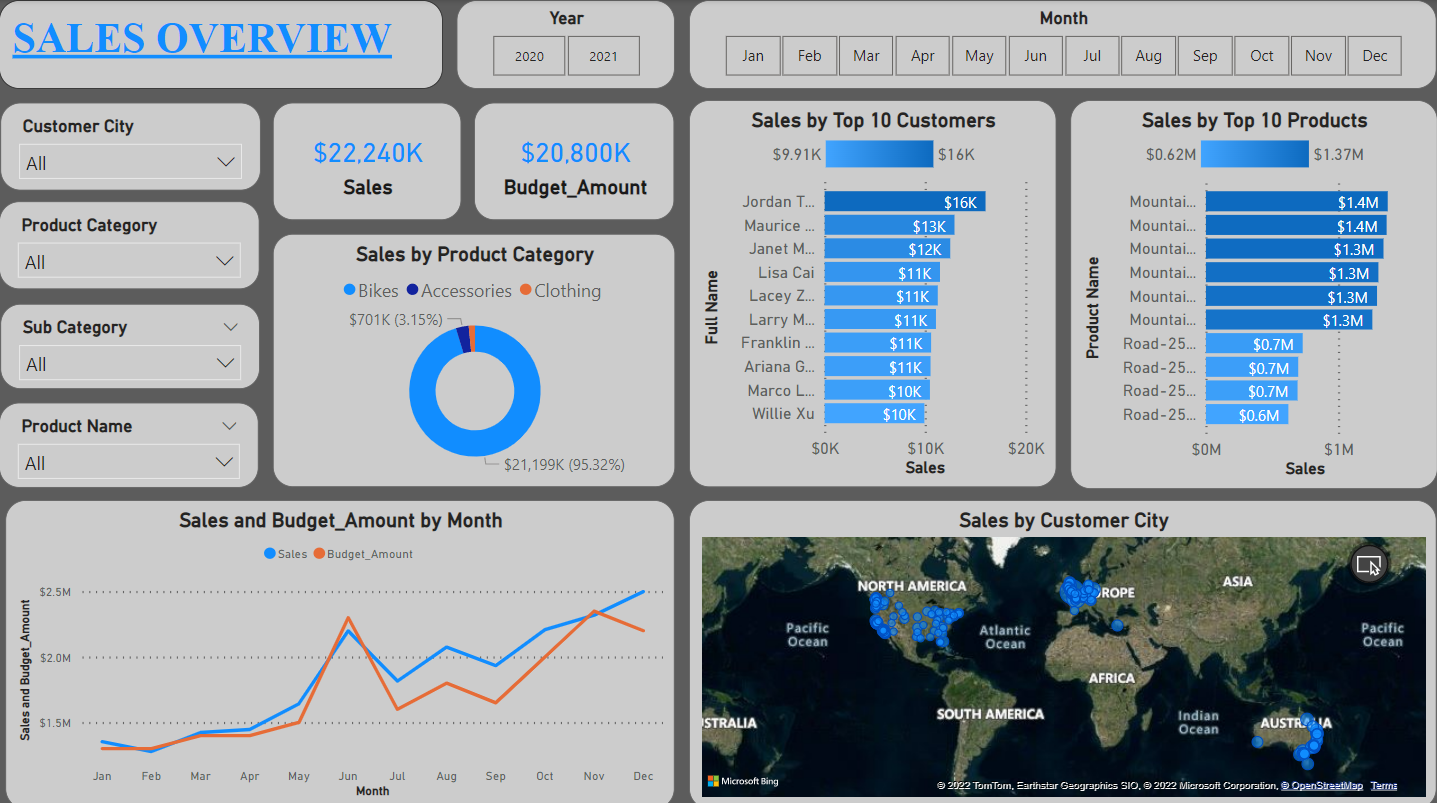

This screenshot's page, from the dashboard's own definition file:
{"tool":"powerbi","page":{"name":"Sales Overview","canvas":[1280,720],"ordinal":0},"visuals":[{"type":"textbox","box":[0,0,395.6,79.6],"z":0},{"type":"slicer","fields":{"Values":["DIM_Product.Product Category"]},"box":[0,179.7,232,78.4],"z":1000},{"type":"slicer","fields":{"Values":["DIM_Product.Sub Category"]},"box":[1.2,270.2,231.6,76],"z":2000},{"type":"slicer","fields":{"Values":["DIM_Product.Product Name"]},"box":[0,358.2,231.6,76],"z":3000},{"type":"slicer","fields":{"Values":["DIM_Customers.Customer City"]},"box":[1.2,91.7,232,78],"z":4000},{"type":"slicer","title":"Year","fields":{"Values":["DIM_Calendar.Year"]},"box":[407.6,0,194.2,79.6],"z":5000},{"type":"slicer","title":"Month","fields":{"Values":["DIM_Calendar.MonthShort"]},"box":[613.9,0,665.7,79.6],"z":6000},{"type":"donutChart","fields":{"Category":["DIM_Product.Product Category"],"Y":["Analysis Metrics.Sales"]},"box":[243.6,208.6,358.2,225.5],"z":7000},{"type":"lineChart","title":"Sales and Budget_Amount by Month","fields":{"Y":["Analysis Metrics.Sales","Analysis Metrics.Budget_Amount"],"Category":["DIM_Calendar.MonthShort"]},"box":[6,445,595.8,275],"z":8000},{"type":"barChart","title":"Sales by Top 10 Customers","fields":{"Category":["DIM_Customers.Full Name"],"Y":["Analysis Metrics.Sales"]},"box":[613.9,89.2,326.8,344.9],"z":9000},{"type":"barChart","title":"Sales by Top 10 Products","fields":{"Category":["DIM_Product.Product Name"],"Y":["Analysis Metrics.Sales"]},"box":[953.1,89.2,326.8,346.1],"z":10000},{"type":"map","fields":{"Category":["DIM_Customers.Customer City"],"Size":["Analysis Metrics.Sales"]},"box":[613.9,445,665.7,275],"z":11000},{"type":"card","fields":{"Values":["Analysis Metrics.Budget_Amount"]},"box":[423.3,91.7,178.5,104.9],"z":12000},{"type":"card","fields":{"Values":["Analysis Metrics.Sales"]},"box":[243.6,91.7,167.6,104.9],"z":13000}]}

Visuals, with their boxes in screenshot pixels (x1, y1, x2, y2), scaled from the page's 1280x720 canvas onto the 1437x803 screenshot:
textbox: <region>0, 0, 444, 89</region>
slicer - DIM_Product.Product Category: <region>0, 200, 260, 288</region>
slicer - DIM_Product.Sub Category: <region>1, 301, 261, 386</region>
slicer - DIM_Product.Product Name: <region>0, 399, 260, 484</region>
slicer - DIM_Customers.Customer City: <region>1, 102, 262, 189</region>
"Year" slicer: <region>458, 0, 676, 89</region>
"Month" slicer: <region>689, 0, 1436, 89</region>
donutChart - DIM_Product.Product Category x Analysis Metrics.Sales: <region>273, 233, 676, 484</region>
"Sales and Budget_Amount by Month" lineChart: <region>7, 496, 676, 802</region>
"Sales by Top 10 Customers" barChart: <region>689, 99, 1056, 484</region>
"Sales by Top 10 Products" barChart: <region>1070, 99, 1436, 485</region>
map - DIM_Customers.Customer City x Analysis Metrics.Sales: <region>689, 496, 1436, 802</region>
card - Analysis Metrics.Budget_Amount: <region>475, 102, 676, 219</region>
card - Analysis Metrics.Sales: <region>273, 102, 462, 219</region>
